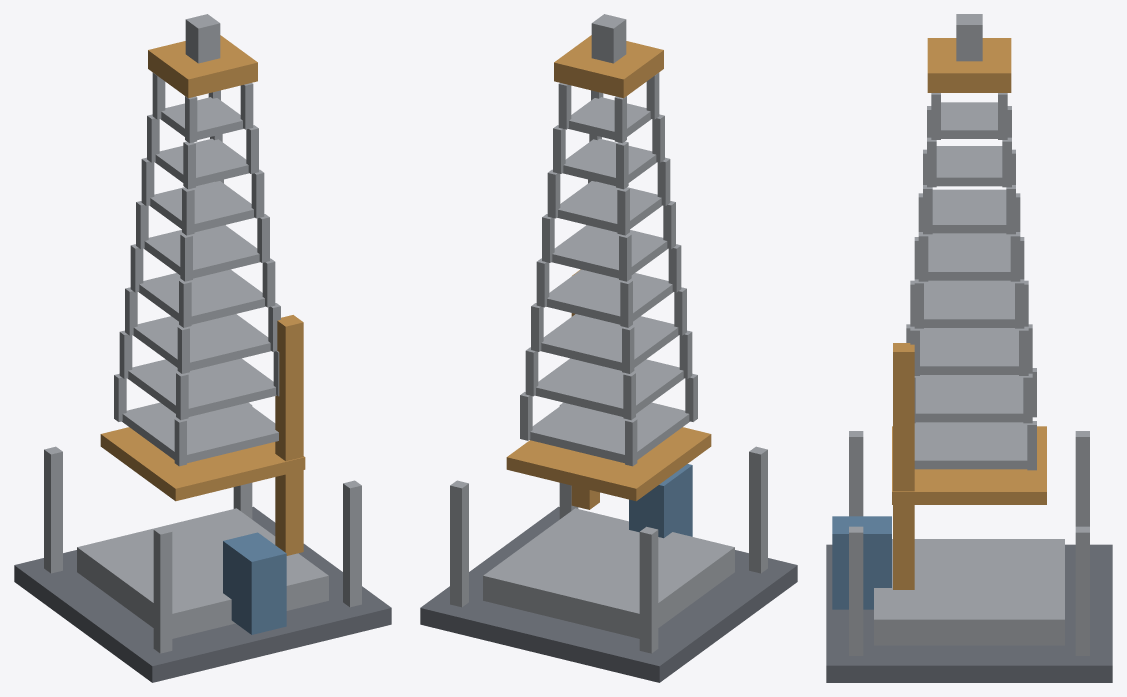
Rendered from rig.glb.
3 renders of one model, left to right at view 1: azimuth 30°, elevation 25°; view 2: azimuth 150°, elevation 25°; view 3: azimuth 270°, elevation 25°, orthographic. The views are drawn at different scales.
Visible parts, largest first — view 1: RigPlaceholder; view 2: RigPlaceholder; view 3: RigPlaceholder.
Part boxes in pixels (x1,y1,x2,y2): RigPlaceholder: (14,14,391,682); RigPlaceholder: (420,14,797,682); RigPlaceholder: (826,14,1112,682).
Bounding box in the file's own units: 2.4 × 5.57 × 2.4.
